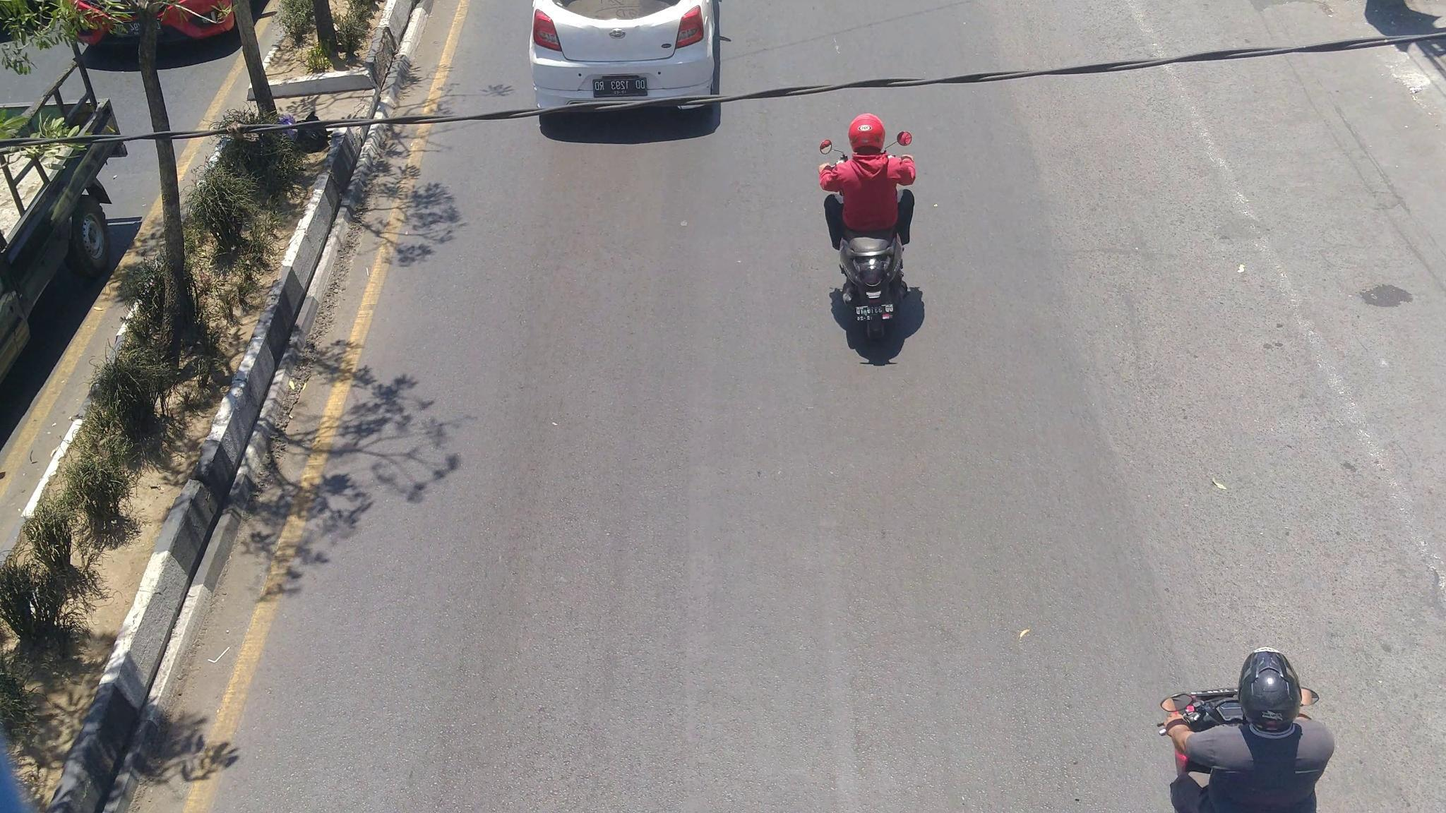Helmet: (1228, 639, 1310, 743), (845, 109, 890, 159)
bike: (818, 129, 921, 334)
number-plate: (847, 302, 896, 323)
rider: (1164, 648, 1335, 813), (819, 114, 920, 259)
